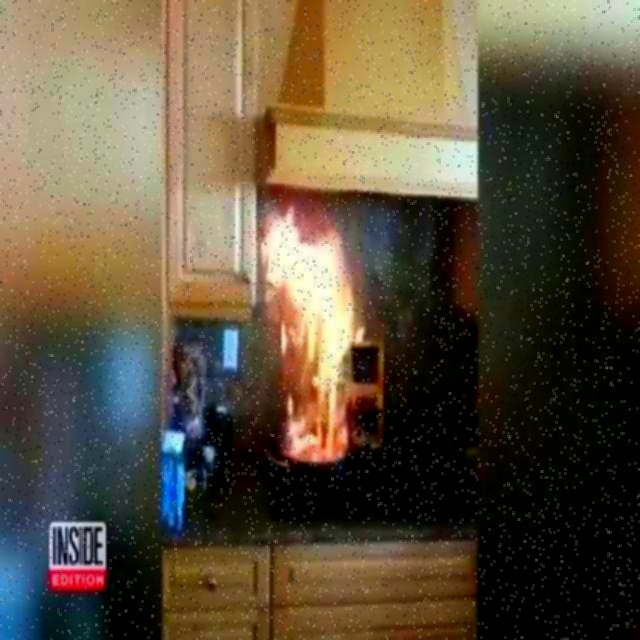fire: (240, 192, 384, 486)
